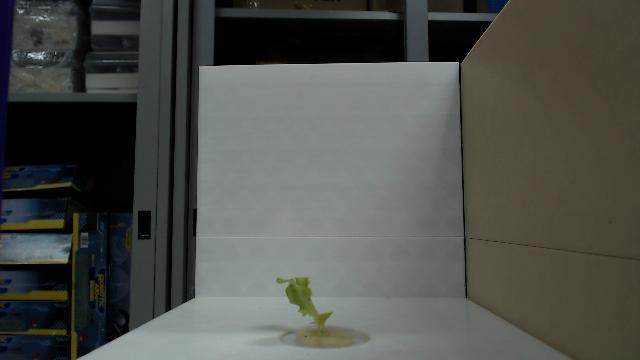Seedling Stage: (276, 275, 336, 339)
